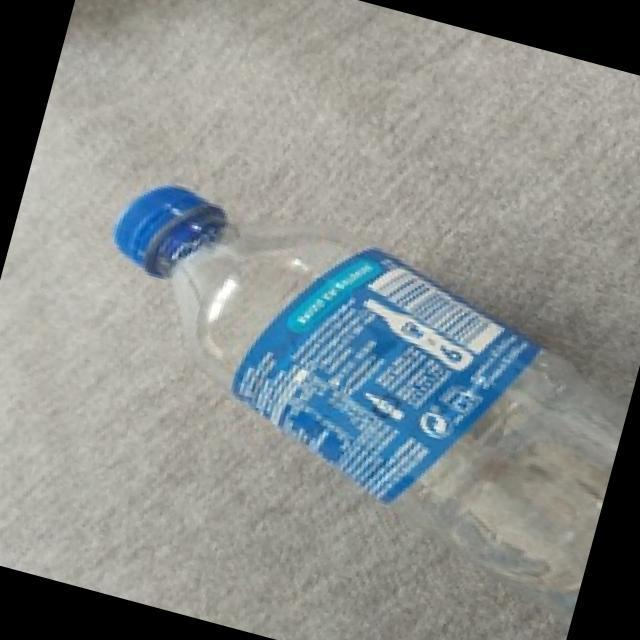good: (36, 150, 640, 631)
